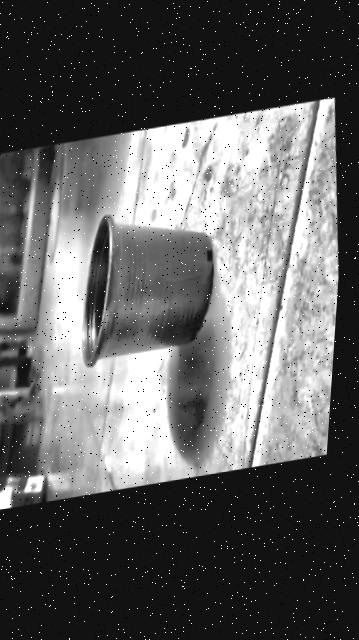pot: (69, 195, 224, 368)
